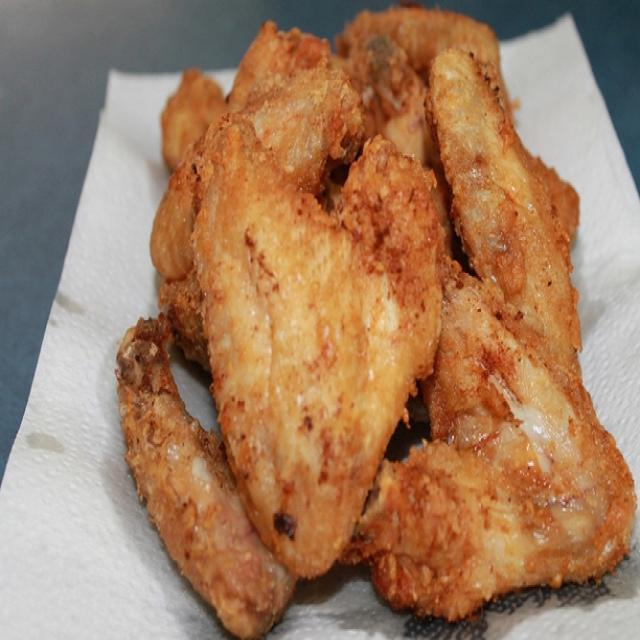Deep fried chicken wing: (117, 24, 638, 614)
